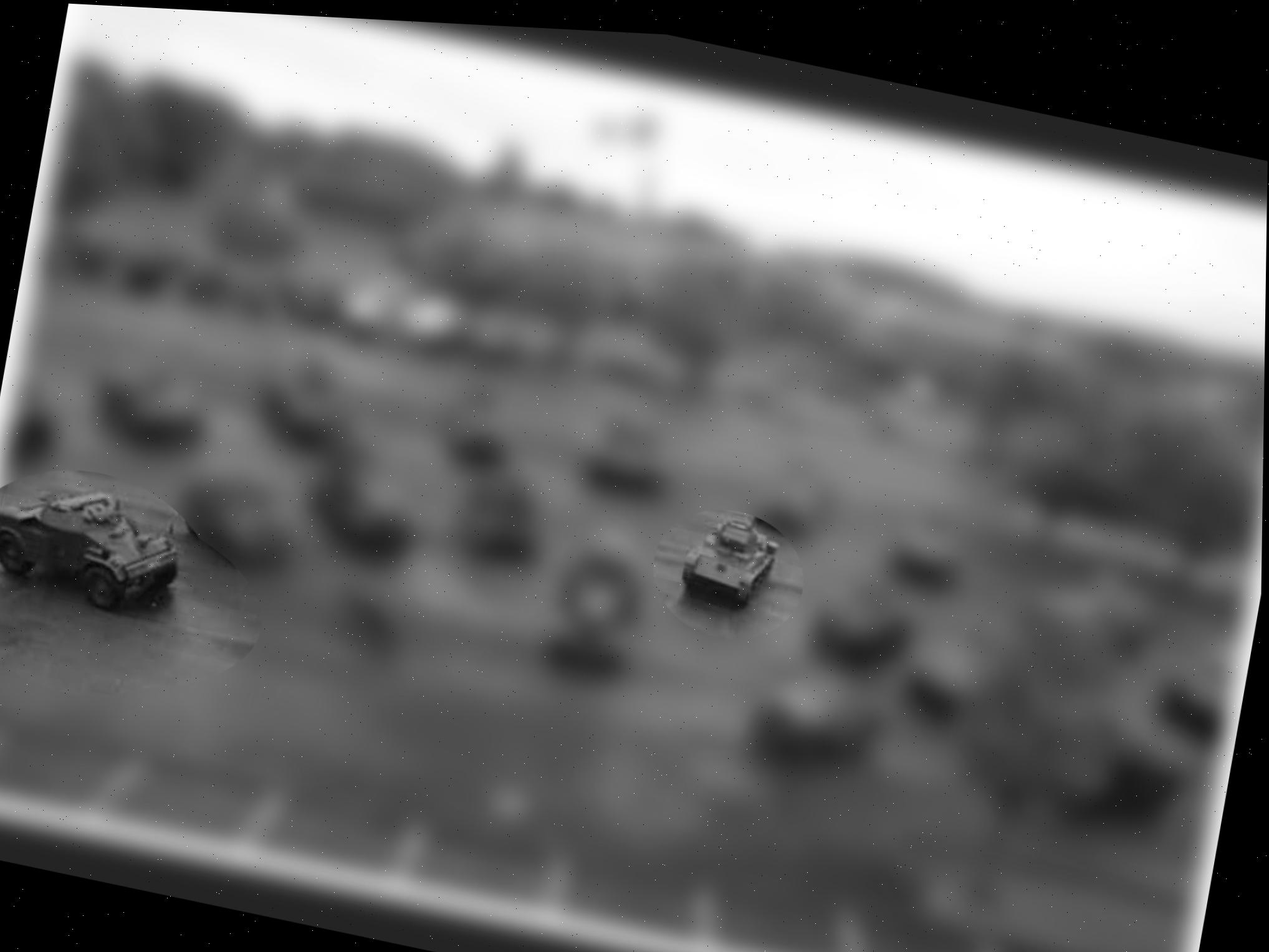armored_car: (0, 461, 196, 629), (676, 502, 784, 615)
